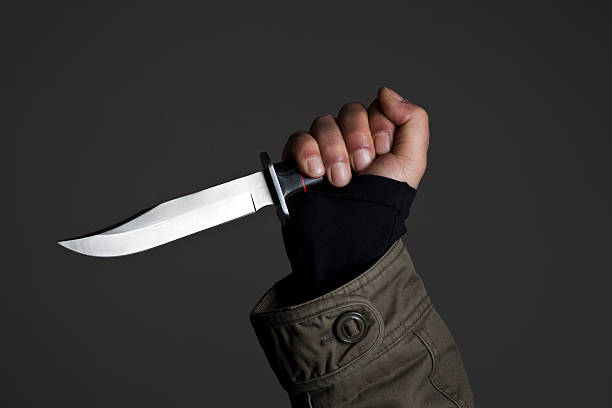knife: (55, 147, 325, 260)
